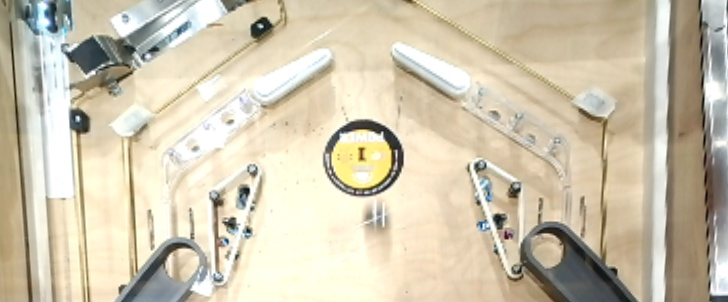ball: (357, 200, 393, 233)
flipper-left: (388, 41, 474, 102)
flipper-right: (251, 46, 334, 104)
